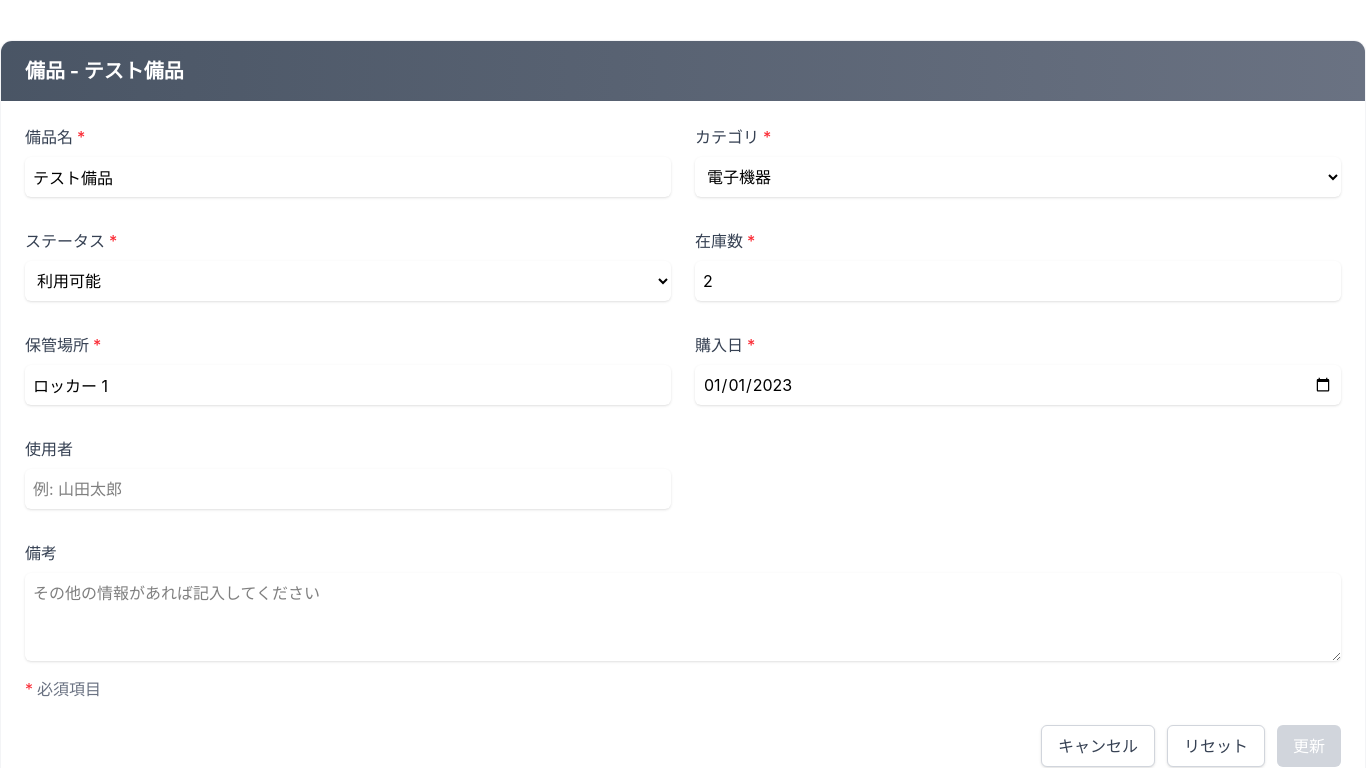
EditEquipmentForm コンポーネント › ユーザーインタラクション › リセットボタンが初期値に戻すことを確認
// フィールドを変更
Replace the text in the field labelled "備品名*" with "変更後の名前" at (348, 177), box top-left (25, 157), bottom-right (671, 197)
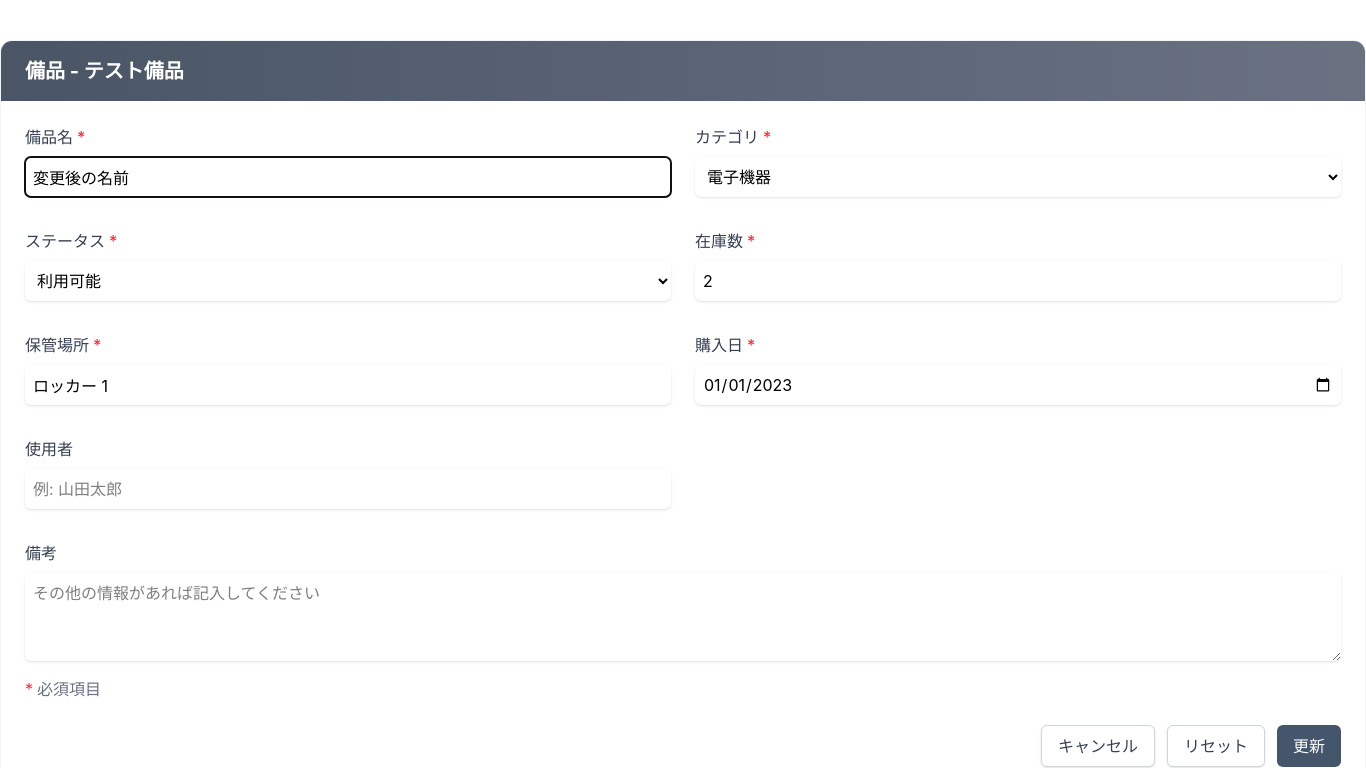
// リセットボタンをクリック
Click the button "リセット" at (1216, 746), box top-left (1167, 725), bottom-right (1265, 767)
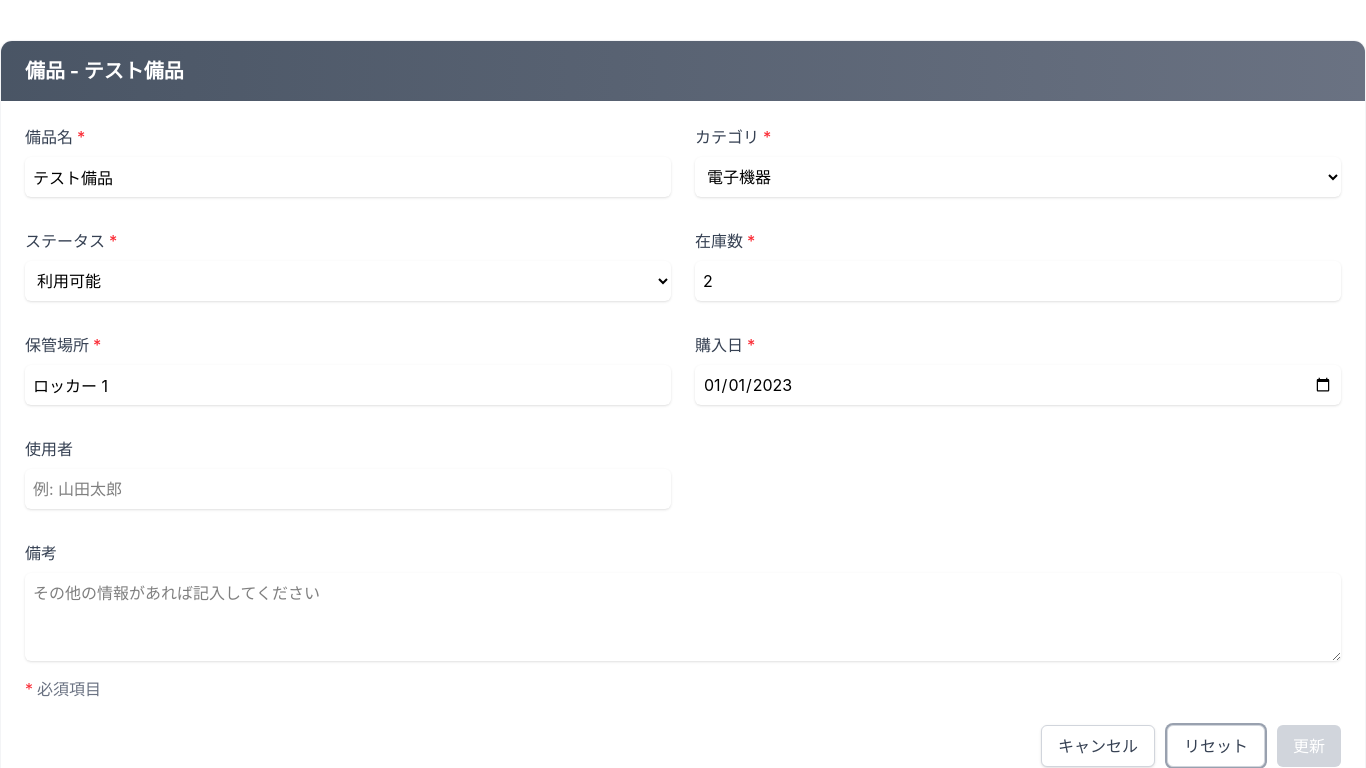
Expected: the field labelled "備品名*" holds "テスト備品", top-left (25, 157), bottom-right (671, 197)
